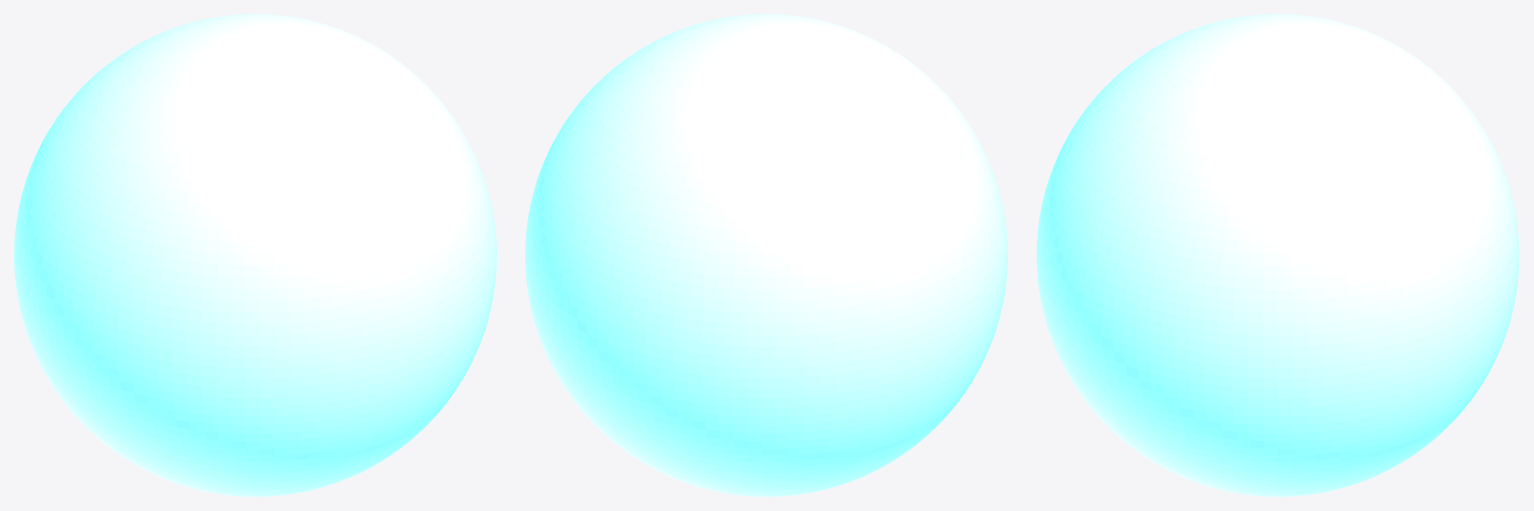
The model's file is Neuron.glb.
3 views of the same model, side by side, from view 1: azimuth 30°, elevation 25°; view 2: azimuth 150°, elevation 25°; view 3: azimuth 270°, elevation 25° (orthographic).
Visible parts, largest first — view 1: Sphere; view 2: Sphere; view 3: Sphere.
Boxes of the visible parts, bbox=[...] form: Sphere: bbox=[14, 14, 496, 496]; Sphere: bbox=[525, 14, 1007, 496]; Sphere: bbox=[1036, 14, 1519, 496].
Bounding box in the file's own units: 0.2611 × 0.2611 × 0.2611.
